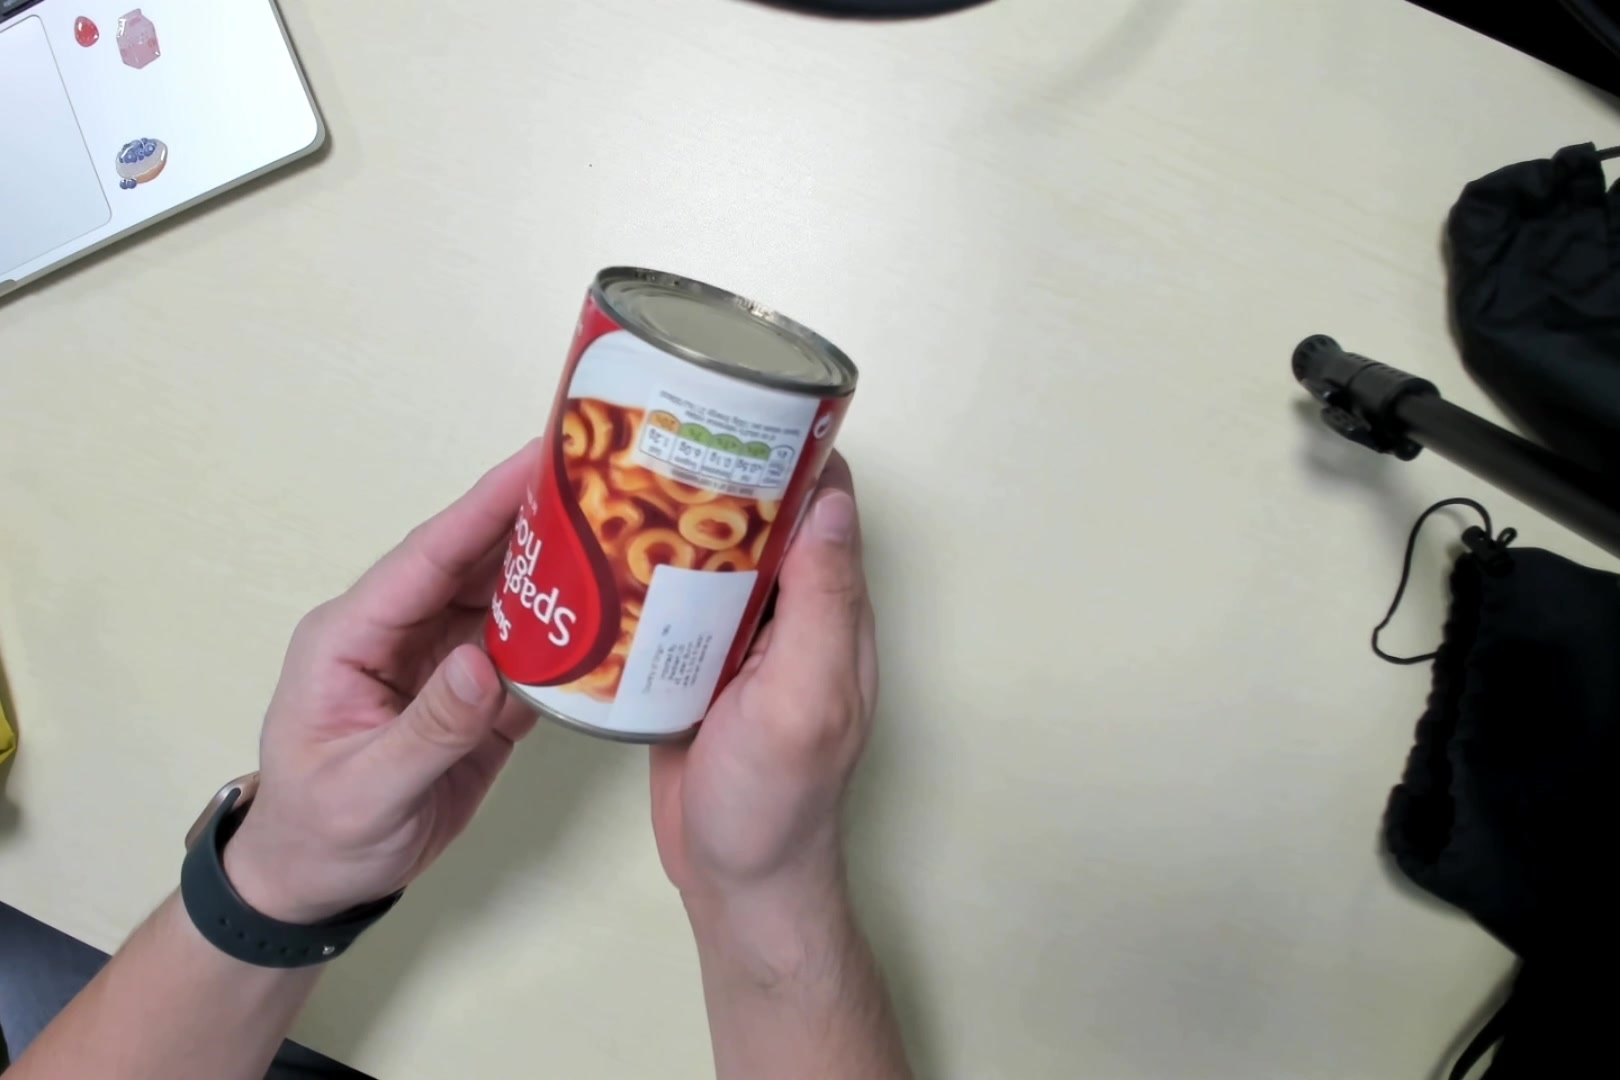InstantMeals_400-499g_NonHalal_NonHealthy: (486, 268, 852, 742)
